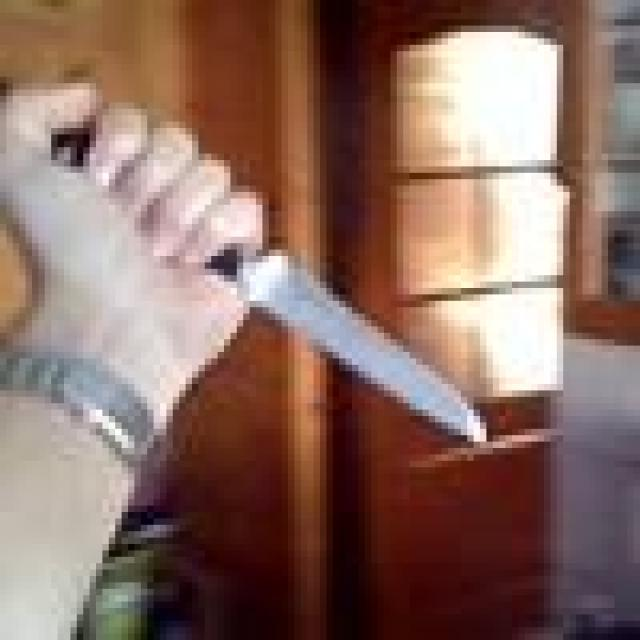knife: (248, 258, 481, 442)
